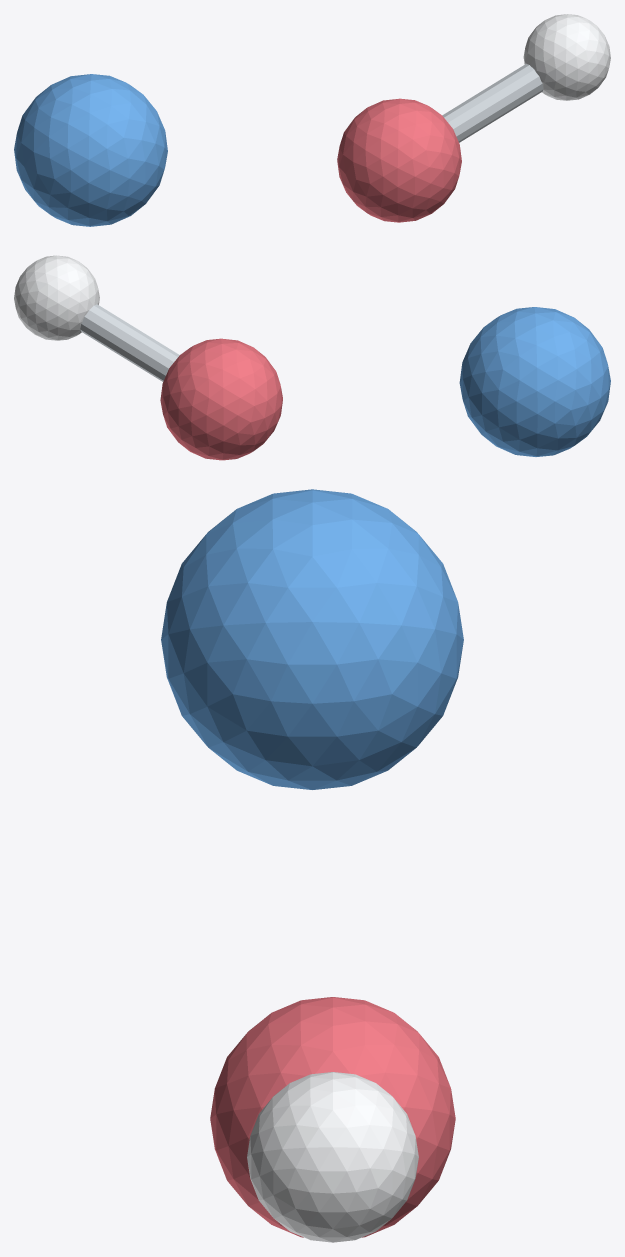
The model's file is naoh.glb.
3 renders of one model, top to bottom at view 1: azimuth 30°, elevation 25°; view 2: azimuth 150°, elevation 25°; view 3: azimuth 270°, elevation 25°, orthographic. The views are drawn at different scales.
Visible parts, largest first — view 1: Atomo_Na, Atomo_O, Atomo_H, Enlace_Covalente_O_H; view 2: Atomo_Na, Atomo_O, Atomo_H, Enlace_Covalente_O_H; view 3: Atomo_Na, Atomo_O, Atomo_H.
Part boxes in pixels (<box>): Atomo_Na: <box>14,74,167,226</box>; Atomo_O: <box>337,98,461,222</box>; Atomo_H: <box>523,14,610,100</box>; Enlace_Covalente_O_H: <box>442,63,543,142</box>; Atomo_Na: <box>459,307,610,456</box>; Atomo_O: <box>160,338,282,460</box>; Atomo_H: <box>14,255,99,340</box>; Enlace_Covalente_O_H: <box>80,304,179,381</box>; Atomo_Na: <box>161,489,463,789</box>; Atomo_O: <box>210,997,455,1237</box>; Atomo_H: <box>247,1072,418,1242</box>.
Bounding box in the file's own units: 3.25 × 1.15 × 0.74.
